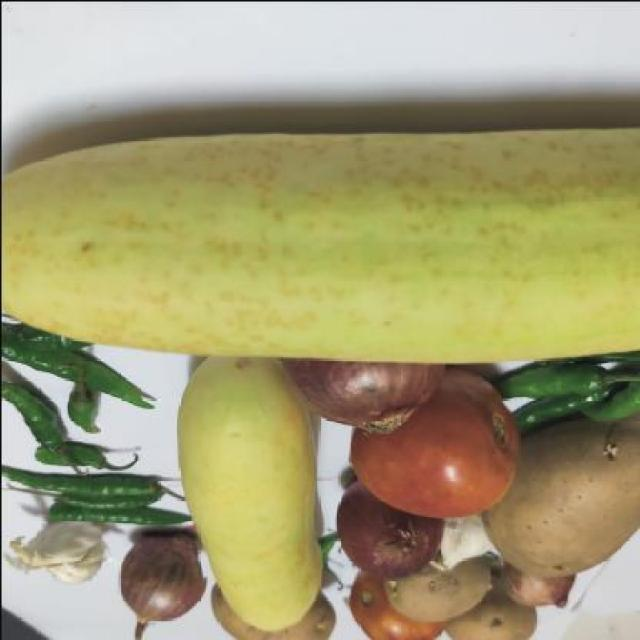Garlic: (0, 517, 100, 585)
Green Chili: (0, 442, 171, 516), (515, 358, 640, 429)
Onion: (119, 531, 206, 635)
Tomato: (363, 380, 523, 518), (498, 440, 640, 571)
cucumber: (0, 115, 640, 371), (163, 336, 320, 632)
